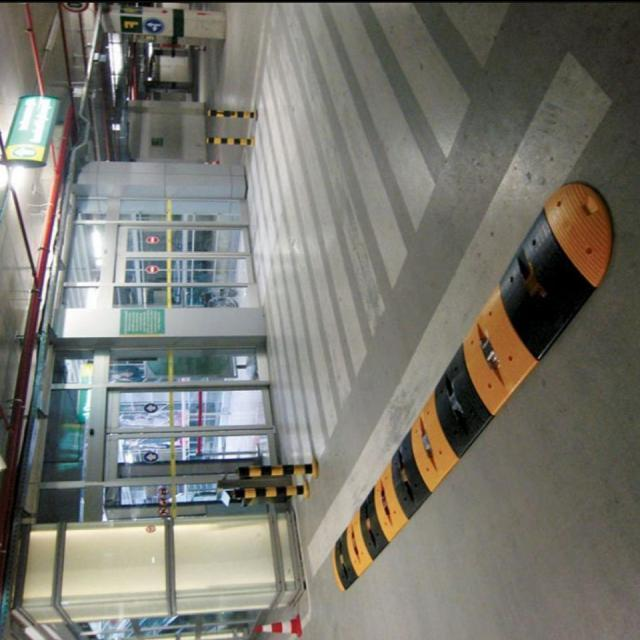Speed_Breaker: (325, 179, 616, 599), (321, 184, 616, 596)
